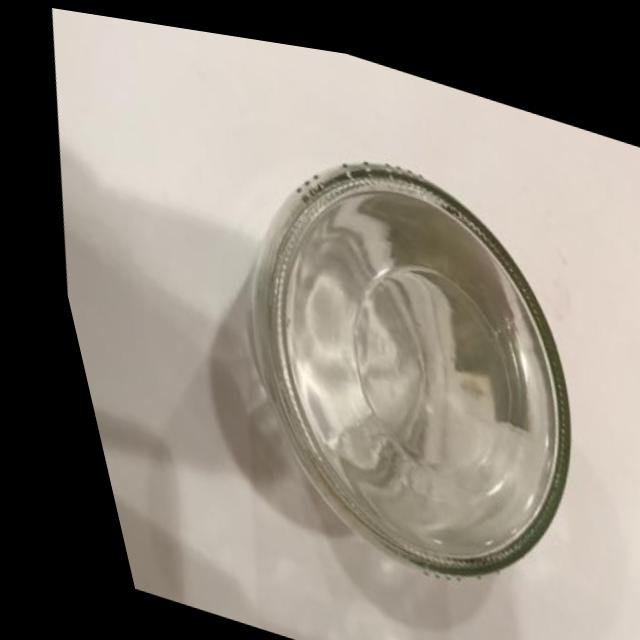glass: (109, 54, 640, 640)
